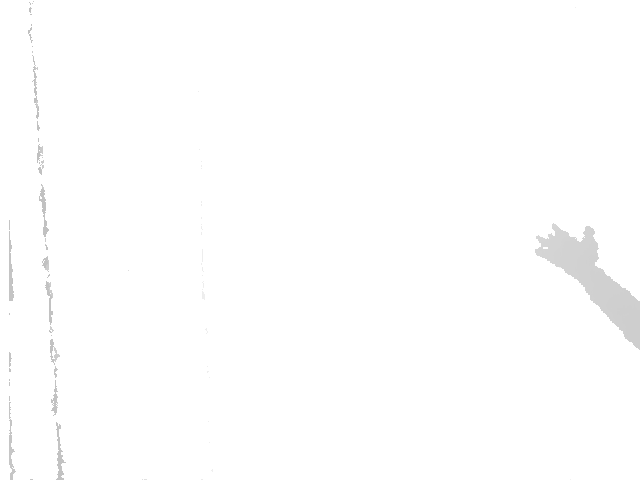hand: (535, 222, 604, 271)
person: (535, 222, 640, 350)
